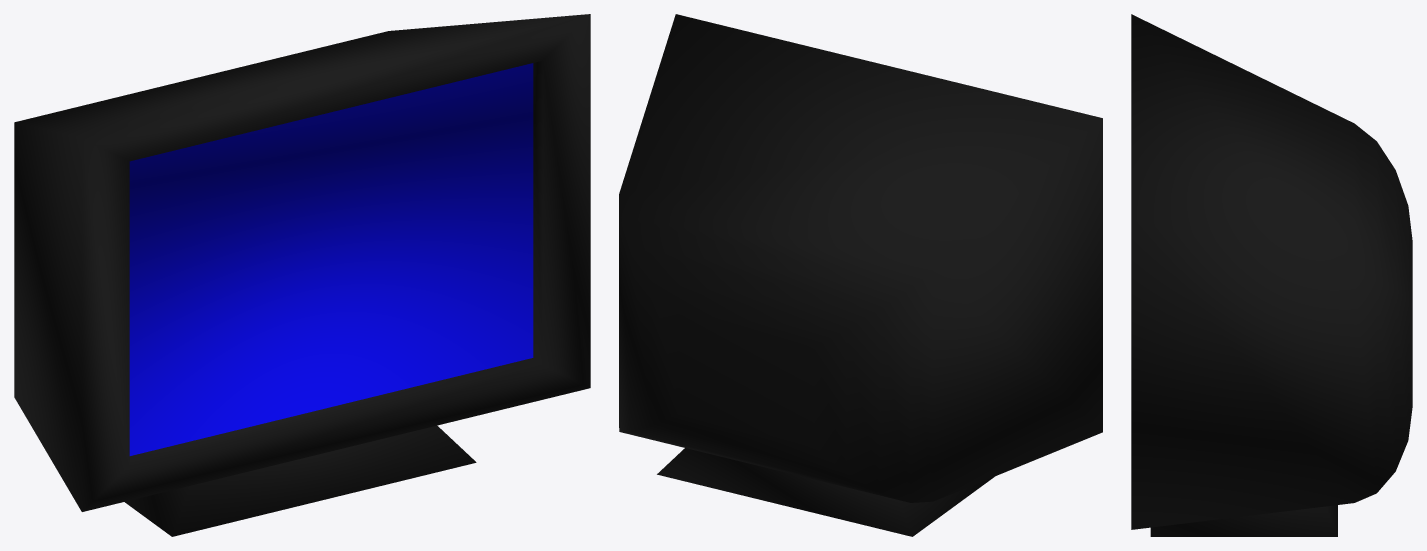
File: Computer.fbx
3 renders of one model, left to right at view 1: azimuth 30°, elevation 25°; view 2: azimuth 150°, elevation 25°; view 3: azimuth 270°, elevation 25°, orthographic. The views are drawn at different scales.
Parts seen in each view (by area): view 1: PC; view 2: PC; view 3: PC.
Boxes of the visible parts, x1,y1,x2,y2 form: PC: (14, 14, 590, 536); PC: (619, 14, 1102, 536); PC: (1131, 14, 1412, 536).
Size of the model in its own units: 285 by 231 by 165.
